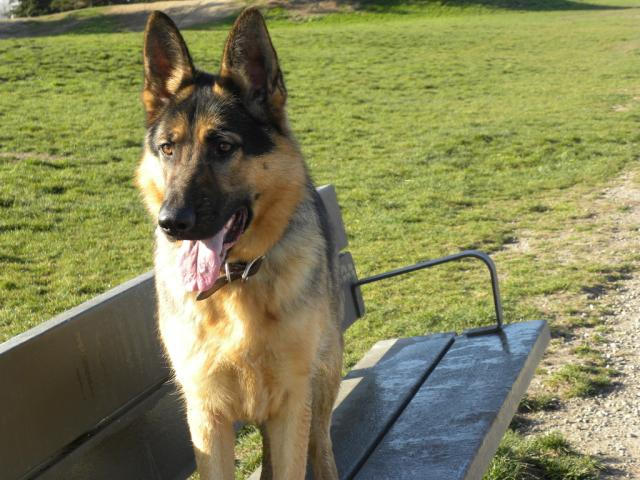Dog: (130, 2, 340, 480)
